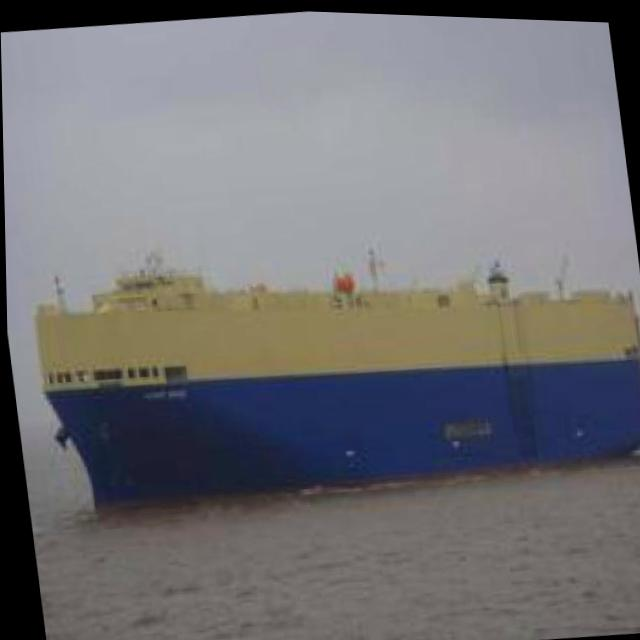ship2: (31, 245, 640, 506)
